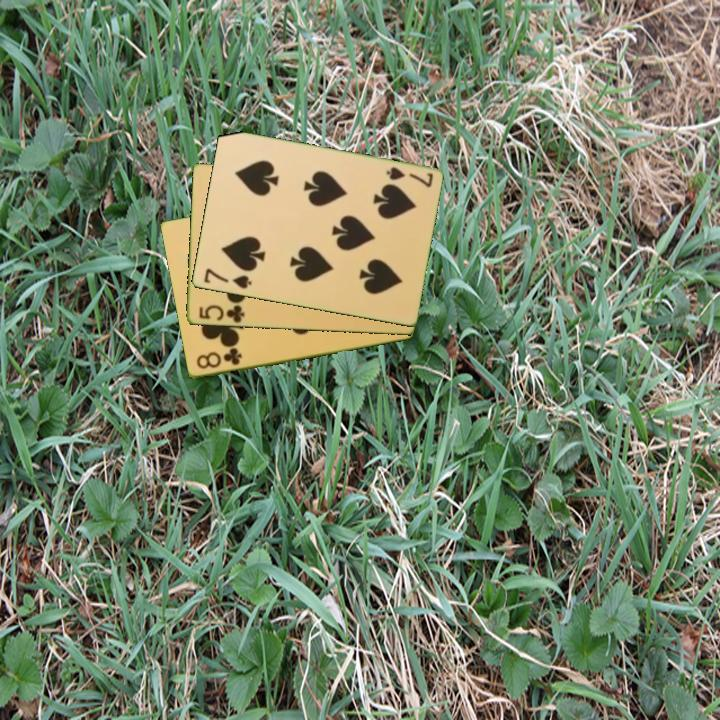5c: (195, 302, 247, 325)
7s: (200, 265, 254, 292), (382, 164, 435, 190)
8c: (193, 345, 245, 372)
